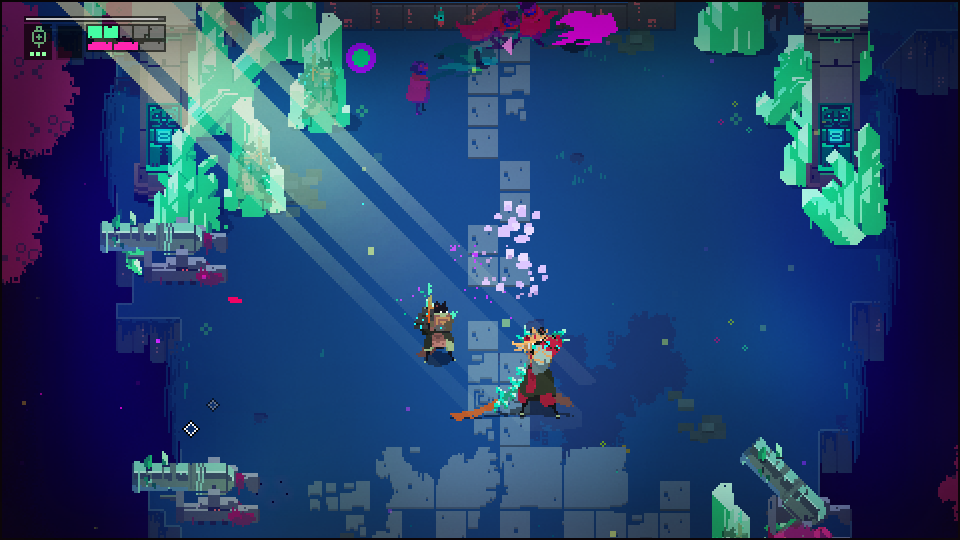hanged_man: (493, 328, 576, 421)
player: (551, 10, 624, 50), (347, 41, 376, 70)
